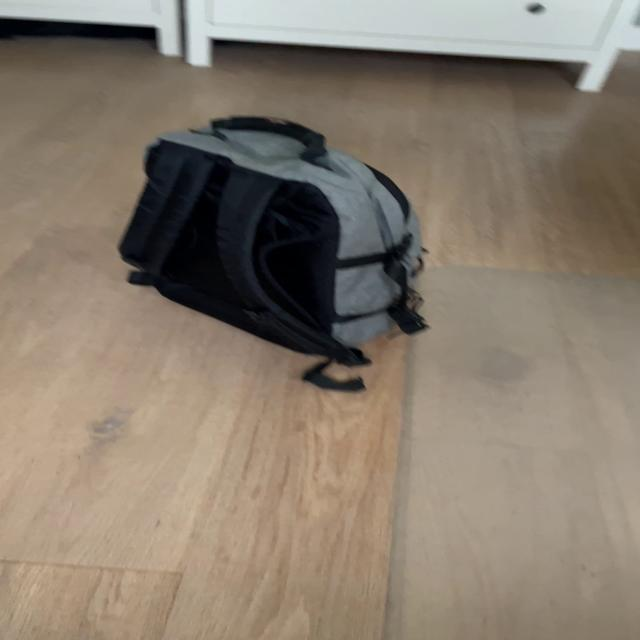backpack: (104, 100, 437, 367)
